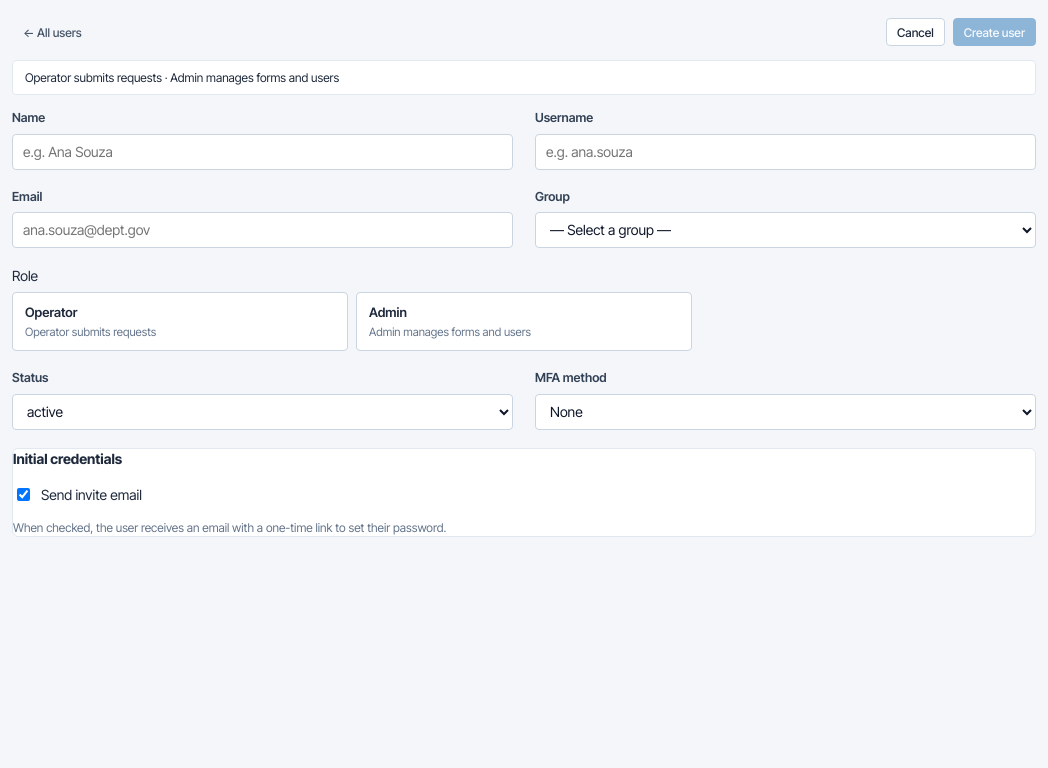
Test: NewUserPage › Create remains disabled until name, username, email, group, role are all set
Type "Ana Souza" into the field labelled "Name" at (262, 152), box [12,134,513,170]
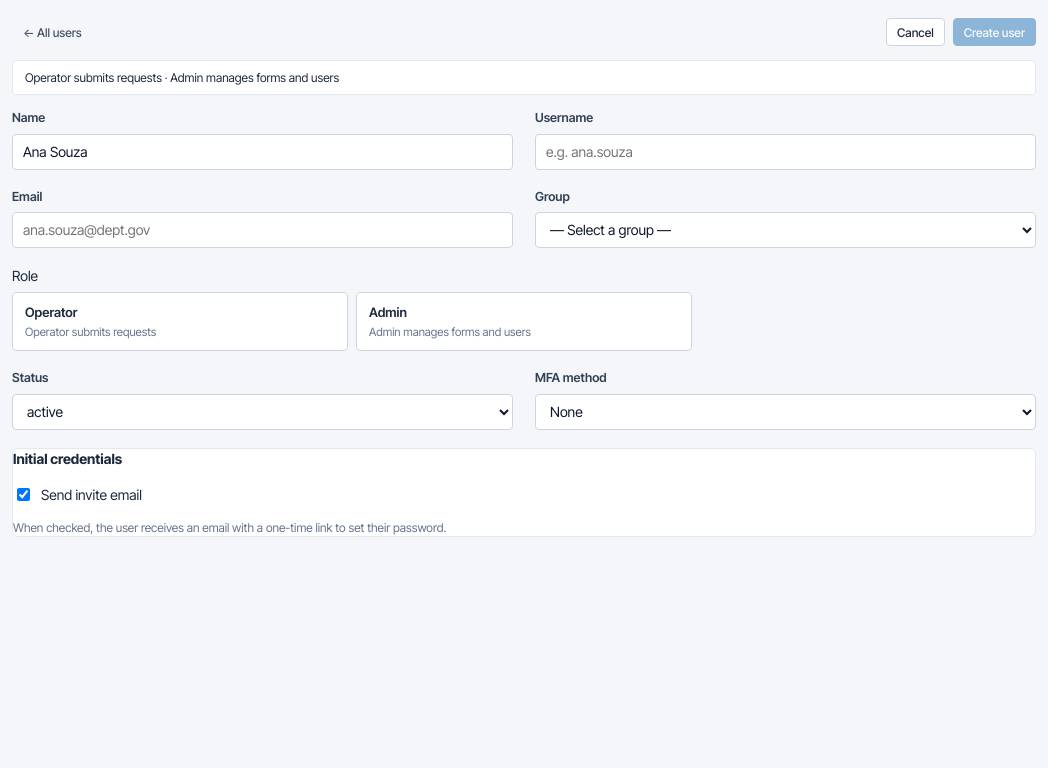
Expected: the button "Create user" is disabled, [953,18,1036,46]
Type "ana.souza" into the field labelled "Username" at (786, 152), box [535,134,1036,170]
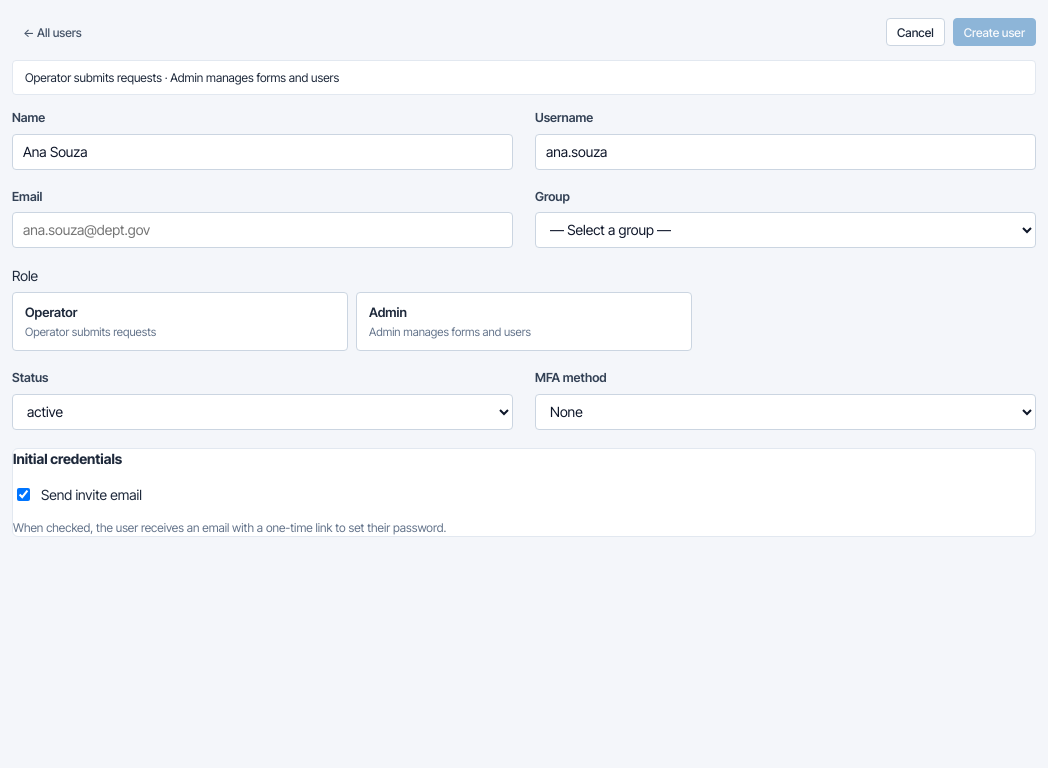
Expected: the button "Create user" is disabled, [953,18,1036,46]
Type "ana@gov" into the field labelled "Email" at (262, 230), box [12,212,513,248]
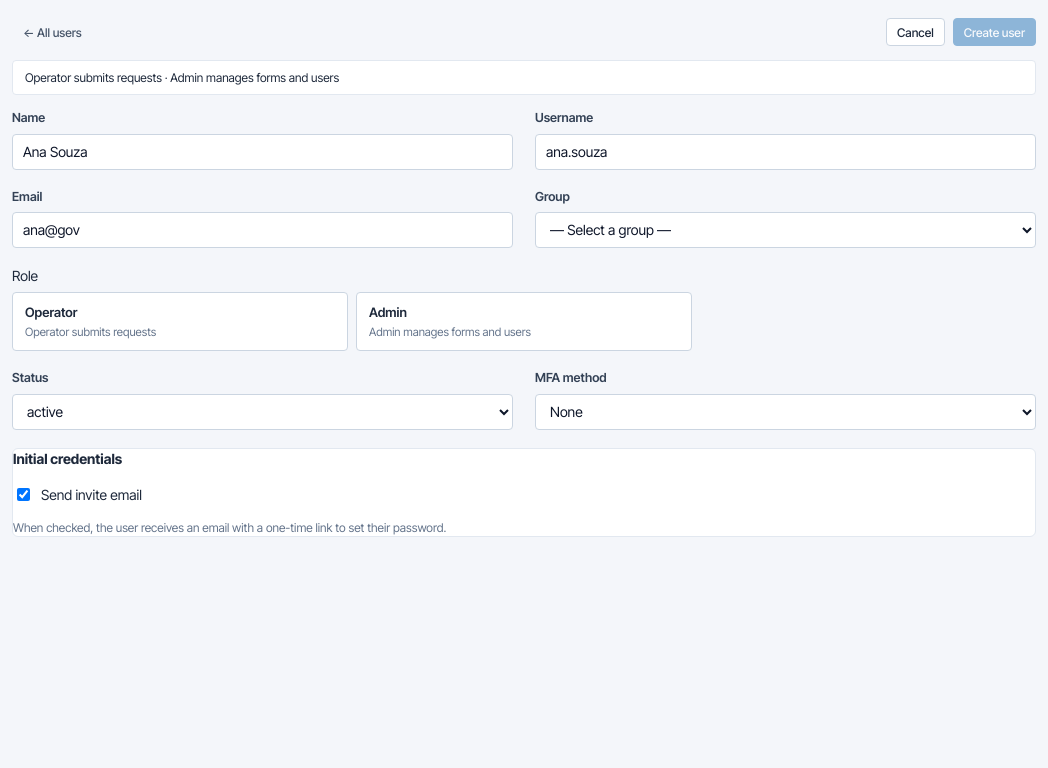
Expected: the button "Create user" is disabled, [953,18,1036,46]
Select "saude" in the dropdown labelled "Group" at (786, 230), box [535,212,1036,248]
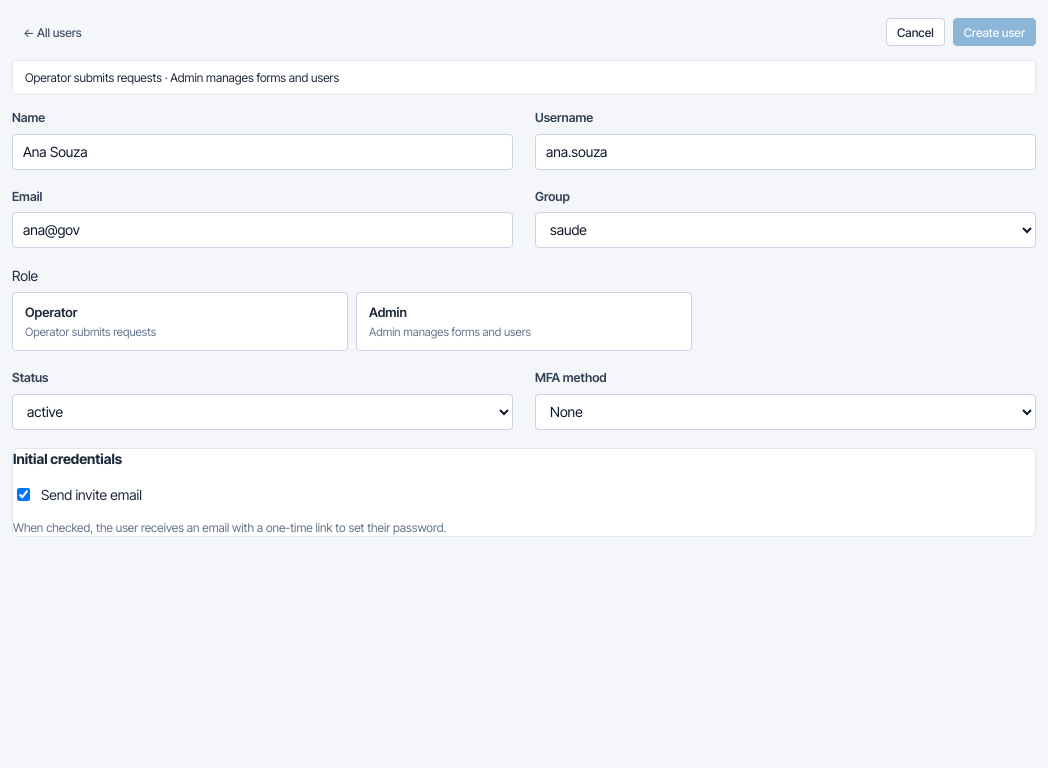
Expected: the button "Create user" is disabled, [953,18,1036,46]
Click the radio button labelled "Operator Operator submits requests" at (51, 312), box [12,292,348,351]
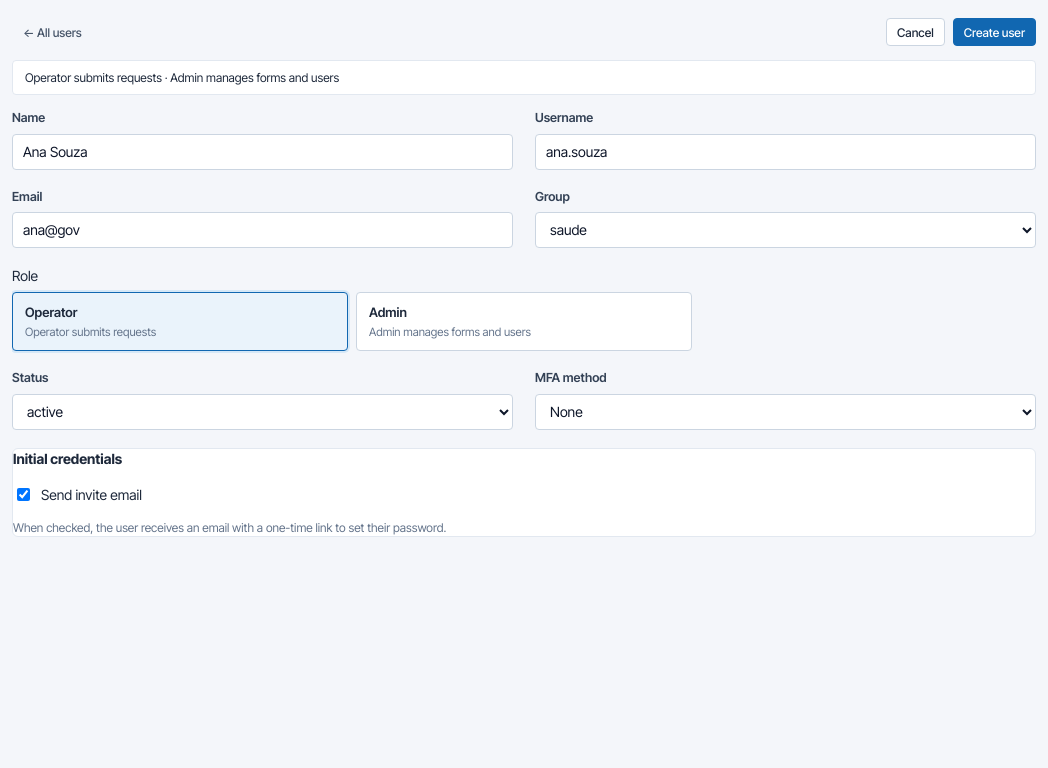
Now the button "Create user" is enabled, box [953,18,1036,46]
